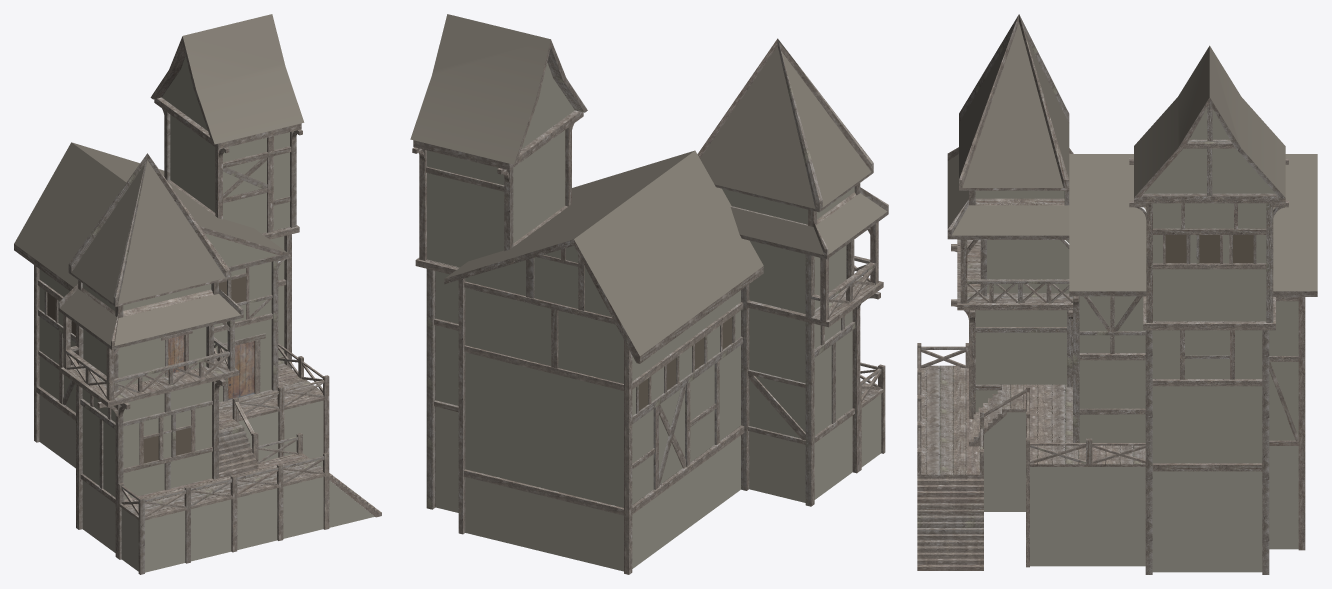
File: House_1.fbx
3 renders of one model, left to right at view 1: azimuth 30°, elevation 25°; view 2: azimuth 150°, elevation 25°; view 3: azimuth 270°, elevation 25°, orthographic. The views are drawn at different scales.
Visible parts, largest first — view 1: Model; view 2: Model; view 3: Model.
Boxes of the visible parts, x1,y1,x2,y2 form: Model: (14, 14, 381, 574); Model: (410, 14, 888, 574); Model: (917, 14, 1317, 574).
Size of the model in its own units: 8.24 by 11.73 by 8.83.
